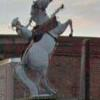Statue: (6, 2, 80, 94)
